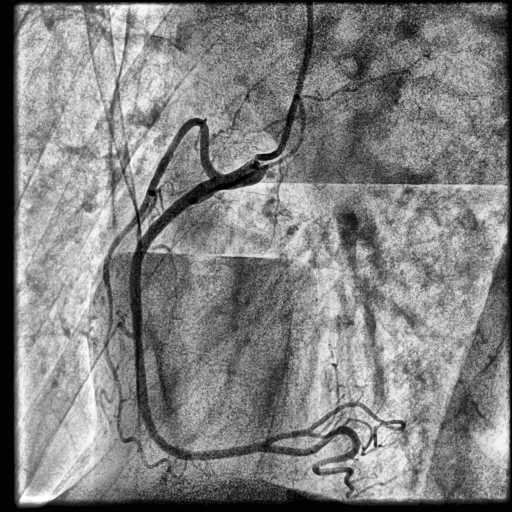pborca: (263, 403, 406, 448)
pda: (261, 426, 361, 494)
rca: (129, 161, 261, 460)
